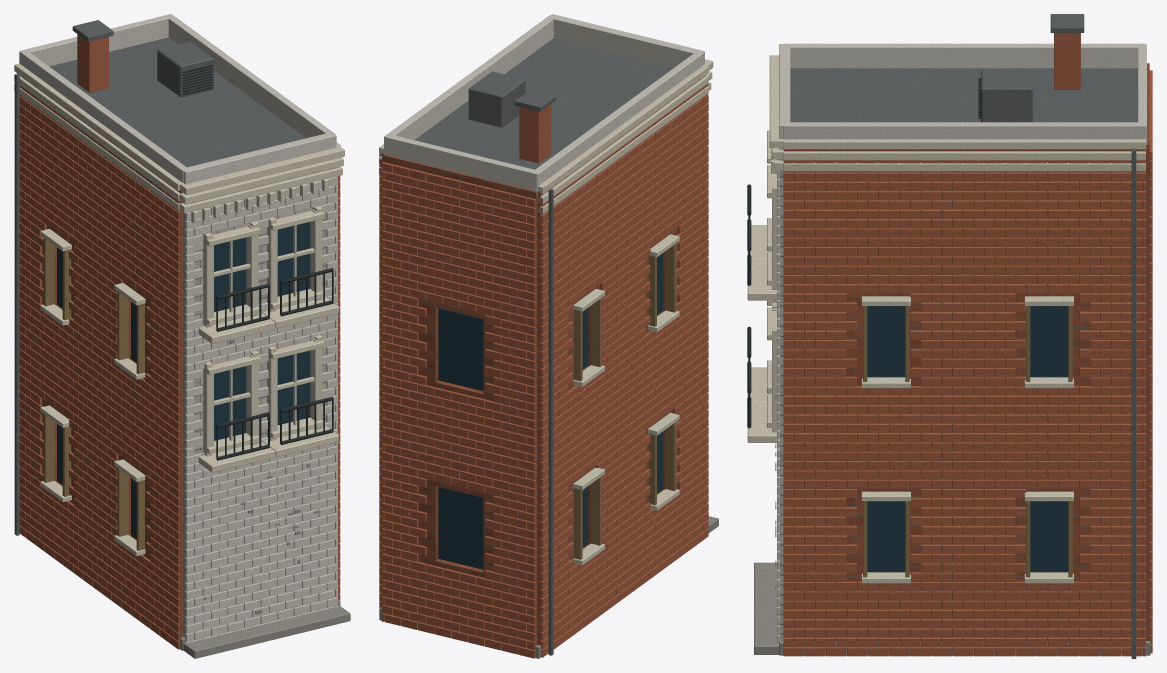
Rendered from RUNDWN16_lod0.glb.
3 views of the same model, side by side, from view 1: azimuth 30°, elevation 25°; view 2: azimuth 150°, elevation 25°; view 3: azimuth 270°, elevation 25° (orthographic). The views are drawn at different scales.
Visible parts, largest first — view 1: RUNDWN16_LOD0; view 2: RUNDWN16_LOD0; view 3: RUNDWN16_LOD0.
Part boxes in pixels (x1,y1,x2,y2): RUNDWN16_LOD0: [14, 14, 350, 658]; RUNDWN16_LOD0: [379, 14, 718, 658]; RUNDWN16_LOD0: [747, 14, 1152, 658].
Size of the model in its own units: 3.71 by 10.45 by 6.72.
15 materials, 13 textured.
